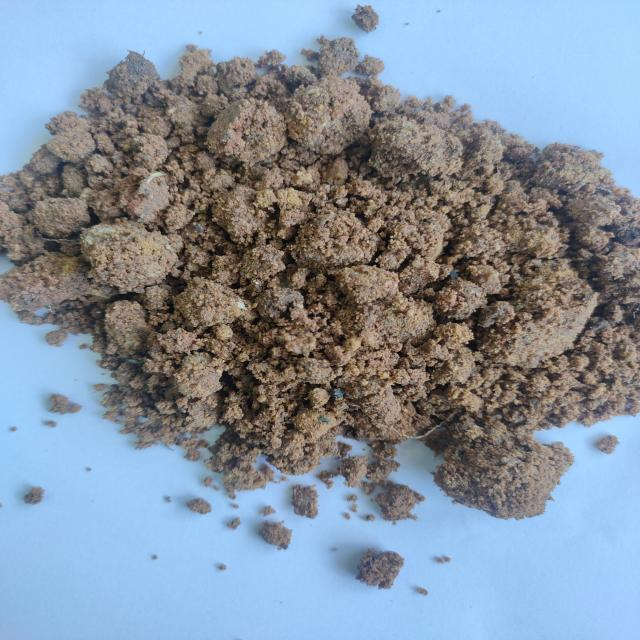soil: (69, 128, 604, 400)
